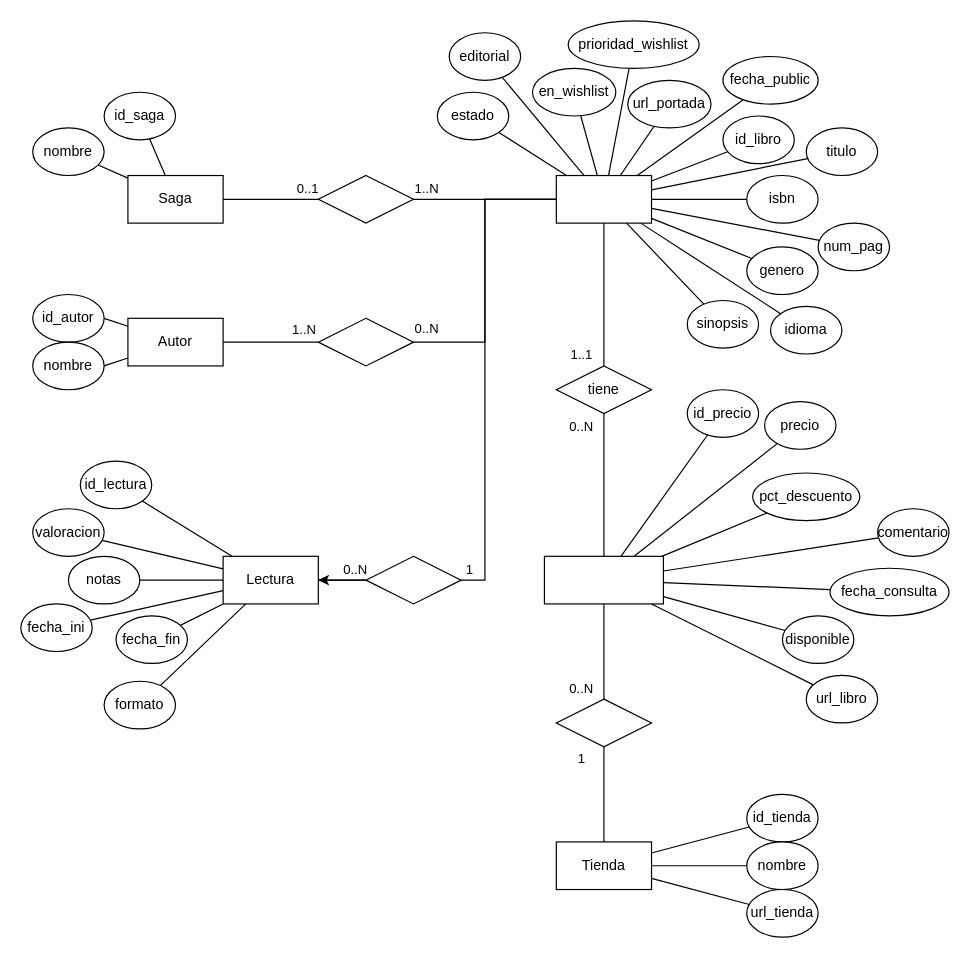
Image size: 970x958. Some labels were removed from this diagram. The centre of each missing label's shape, as x and y in pixels:
escribe: the point at 365,341
HostoricoPrecio: the point at 603,579
Libro: the point at 603,198
pertenece: the point at 365,198
realizas: the point at 413,579
registra: the point at 603,722
